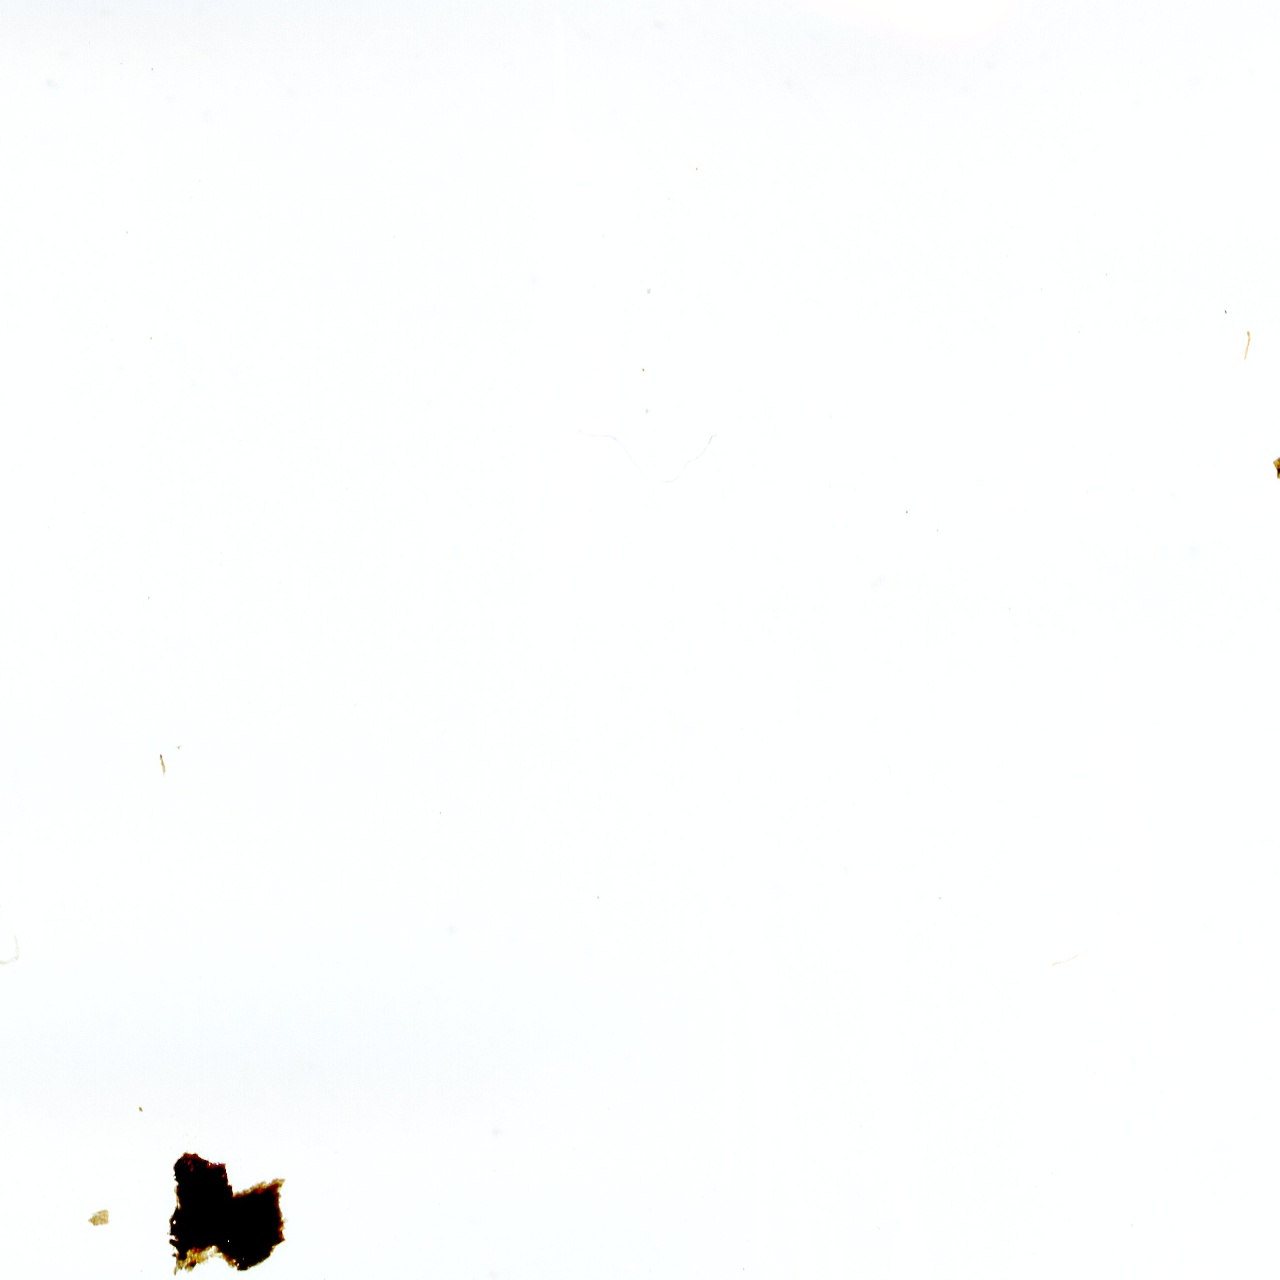arthropod: (0, 875, 28, 989)
